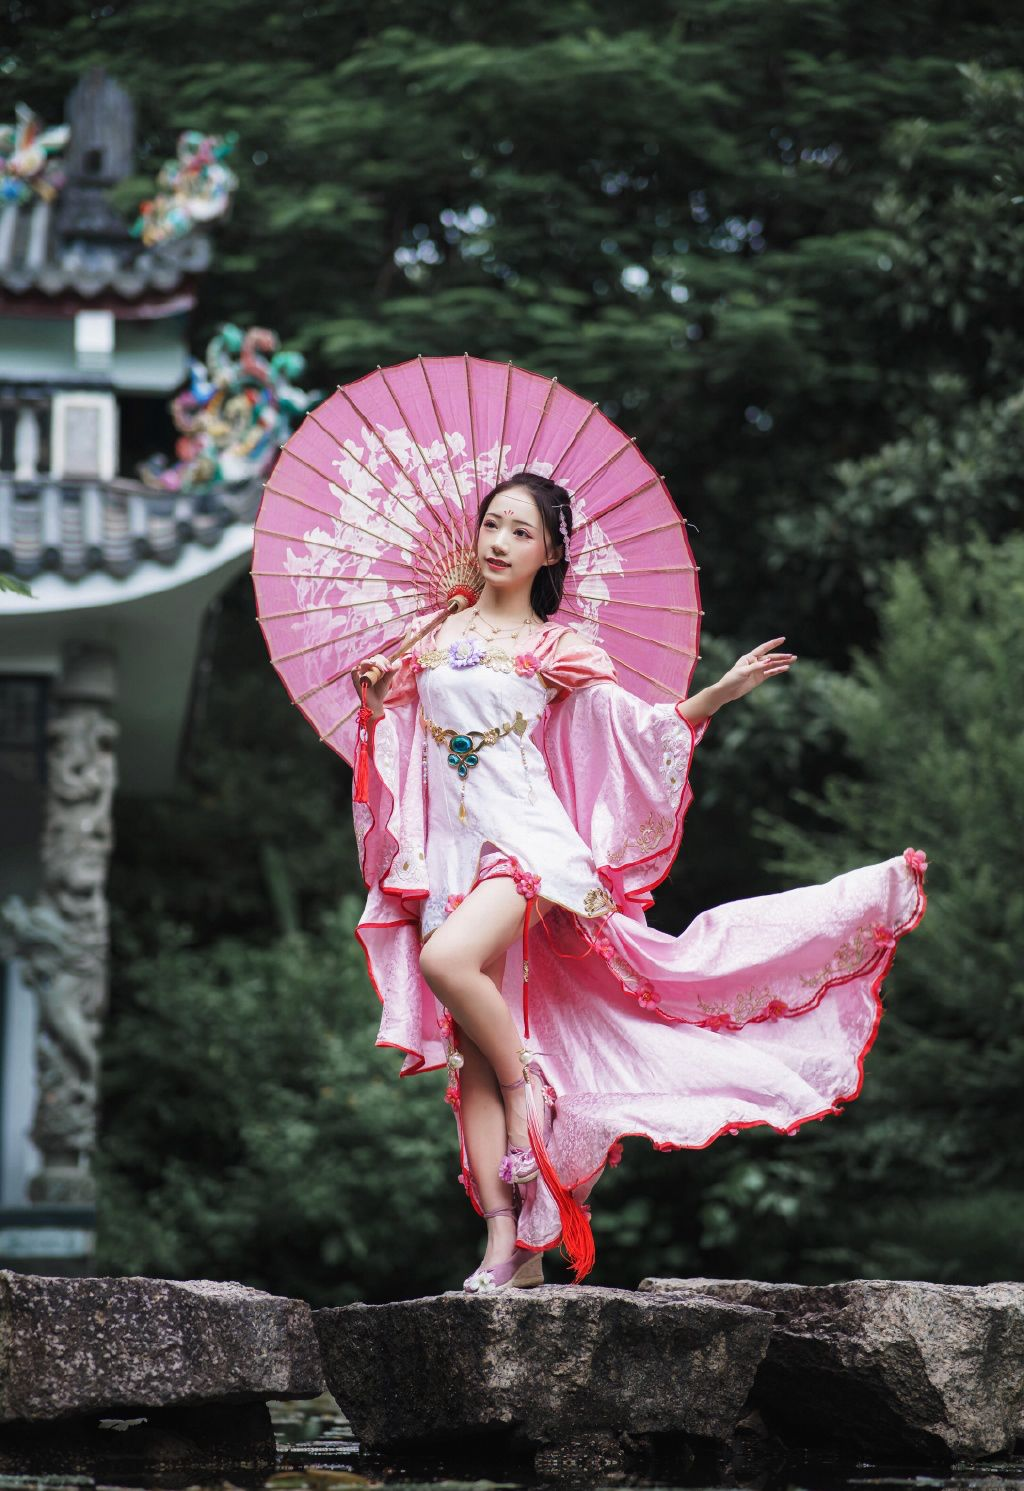person: (287, 463, 849, 1215)
